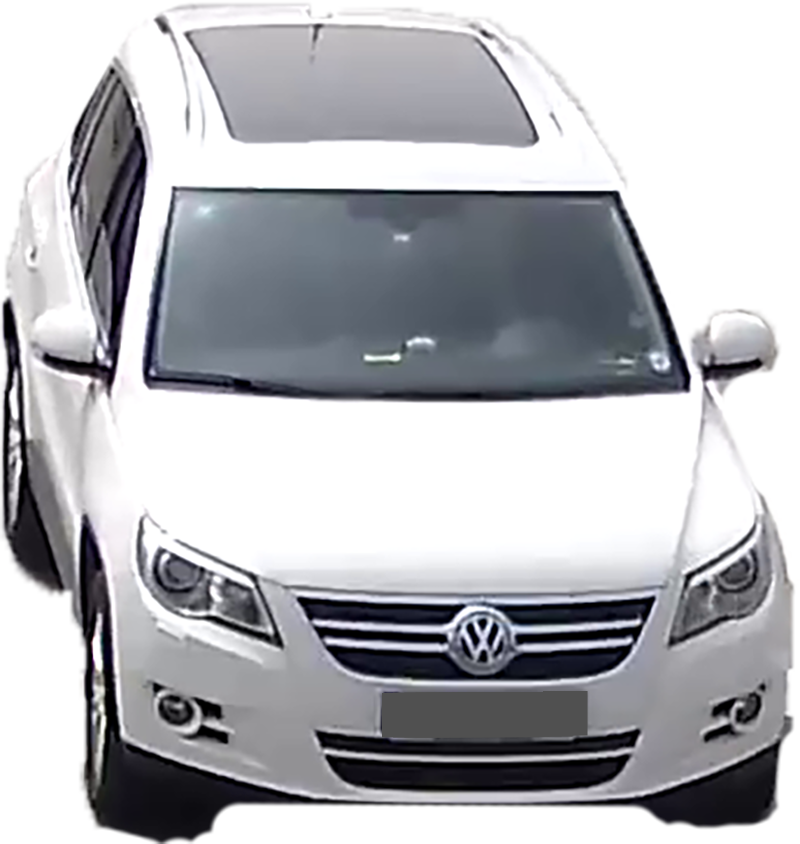P1_: (585, 690, 594, 697)
bbox: (379, 689, 587, 741)
